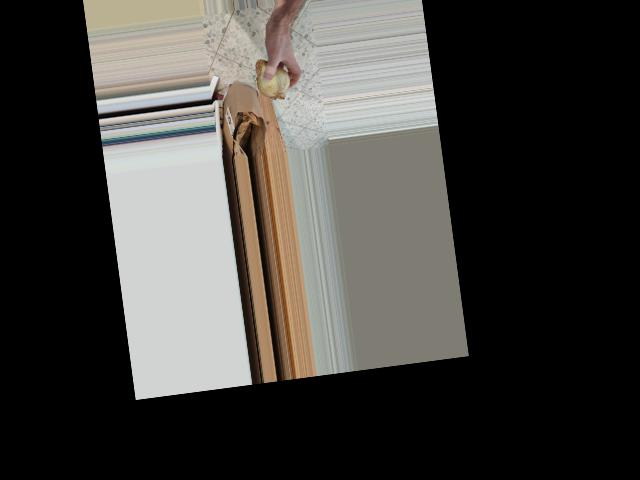onion: (250, 54, 296, 104)
